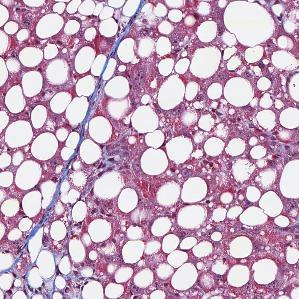fibrosis: (95, 38, 116, 94)
